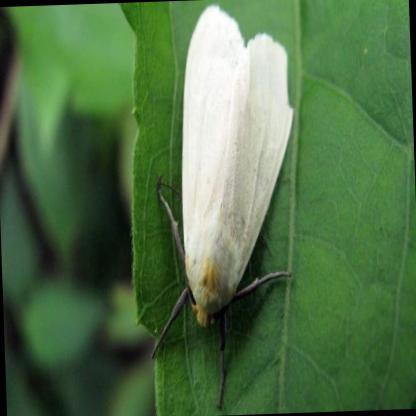whitefly: (181, 4, 292, 322)
